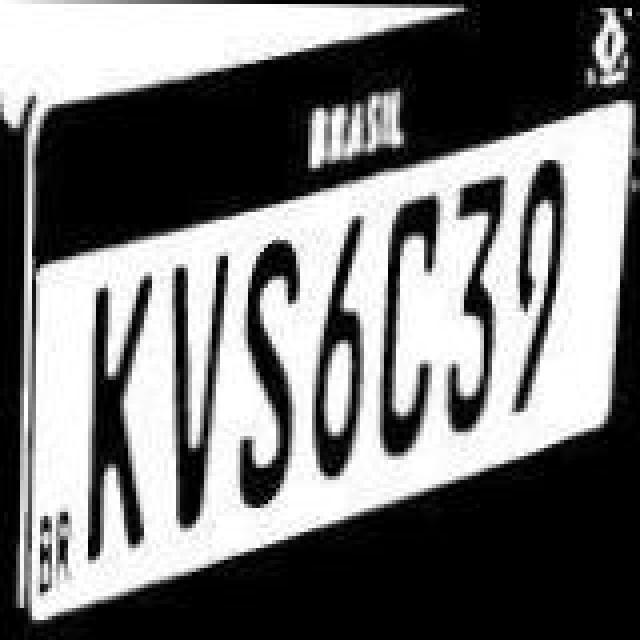3: (444, 166, 508, 438)
6: (310, 206, 370, 490)
9: (508, 150, 572, 422)
C: (380, 182, 444, 458)
K: (80, 278, 152, 574)
S: (230, 234, 306, 510)
V: (162, 254, 238, 534)
